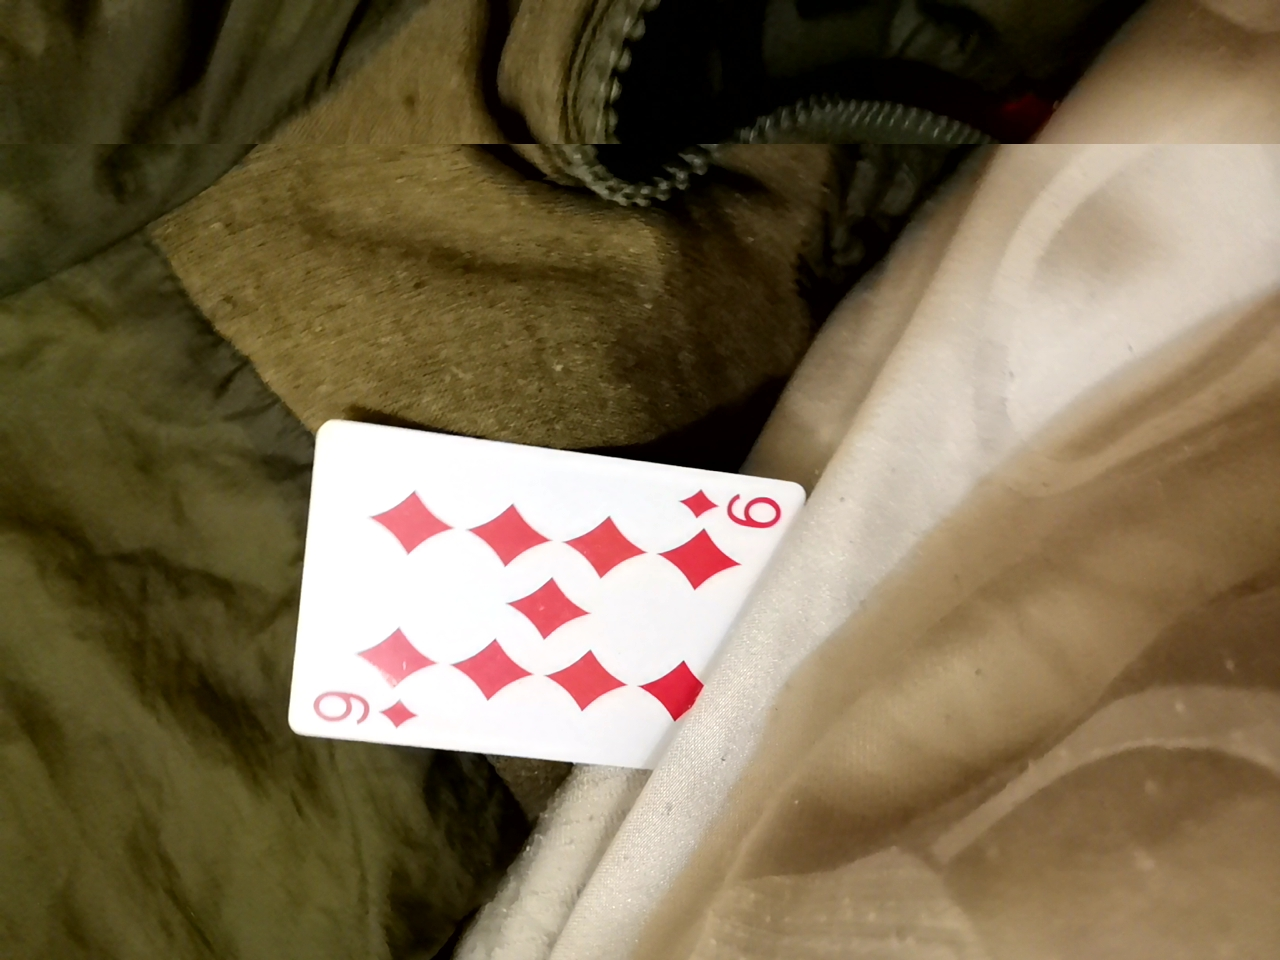fk 9: (264, 405, 801, 799)
